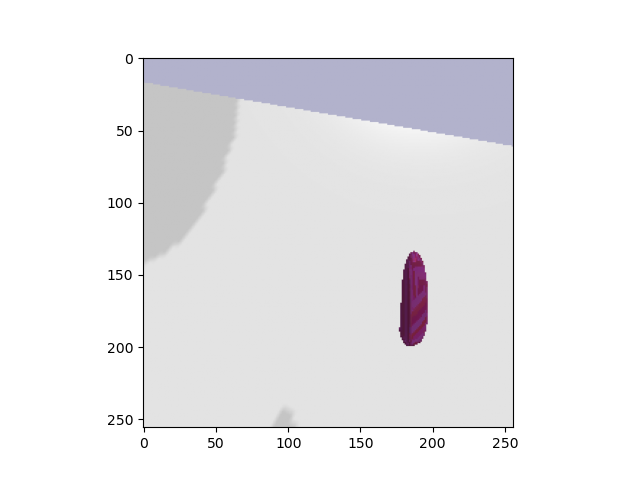v249b387_105: (398, 248, 431, 349)
